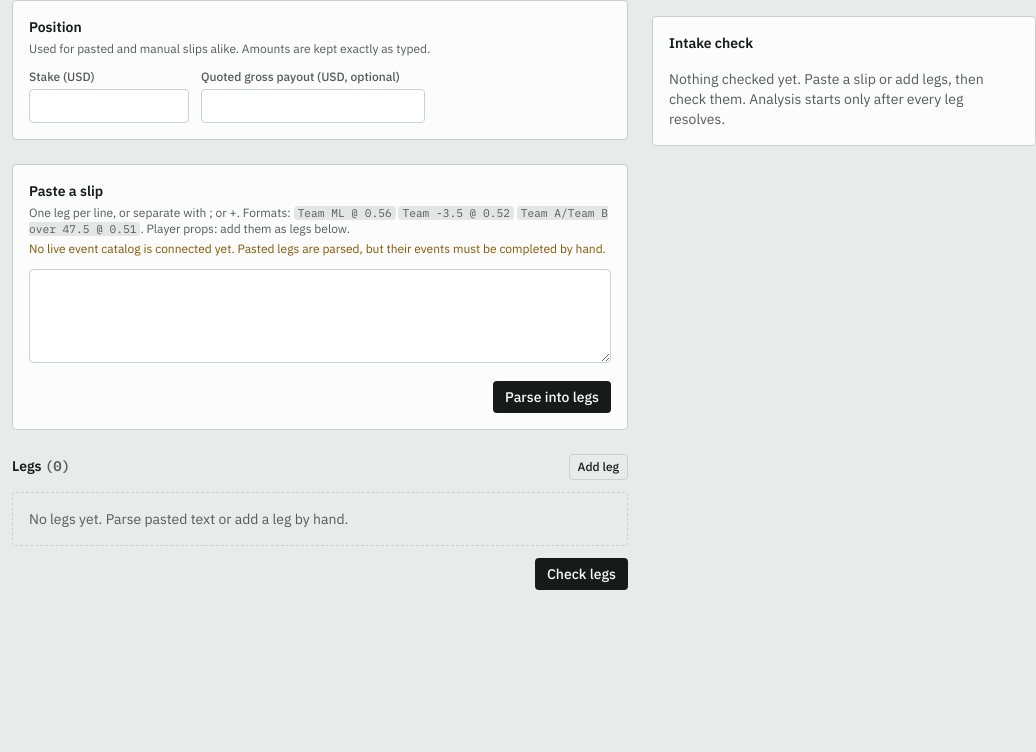
Test: live markets are rejected and labelled unsupported
Type "Chiefs ML @ 0.56" into the text box named "Slip text". click: (320, 316)
box: [29,269,611,363]
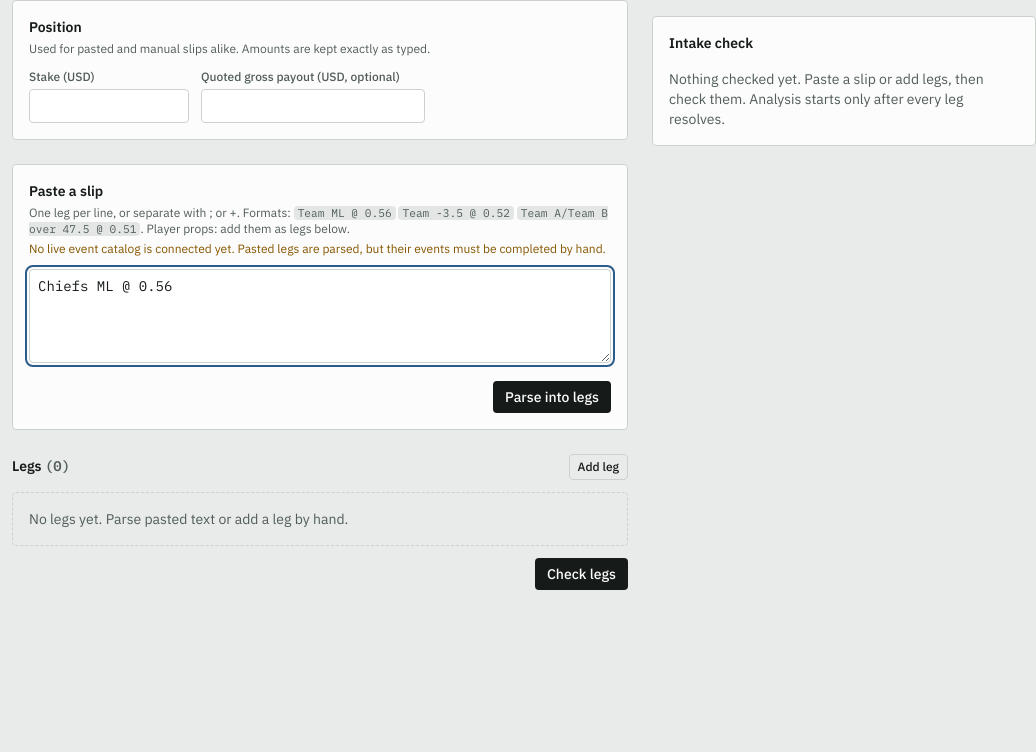
Type "25" into the field labelled "Stake (USD)". click: (109, 106)
box: [29,89,189,123]
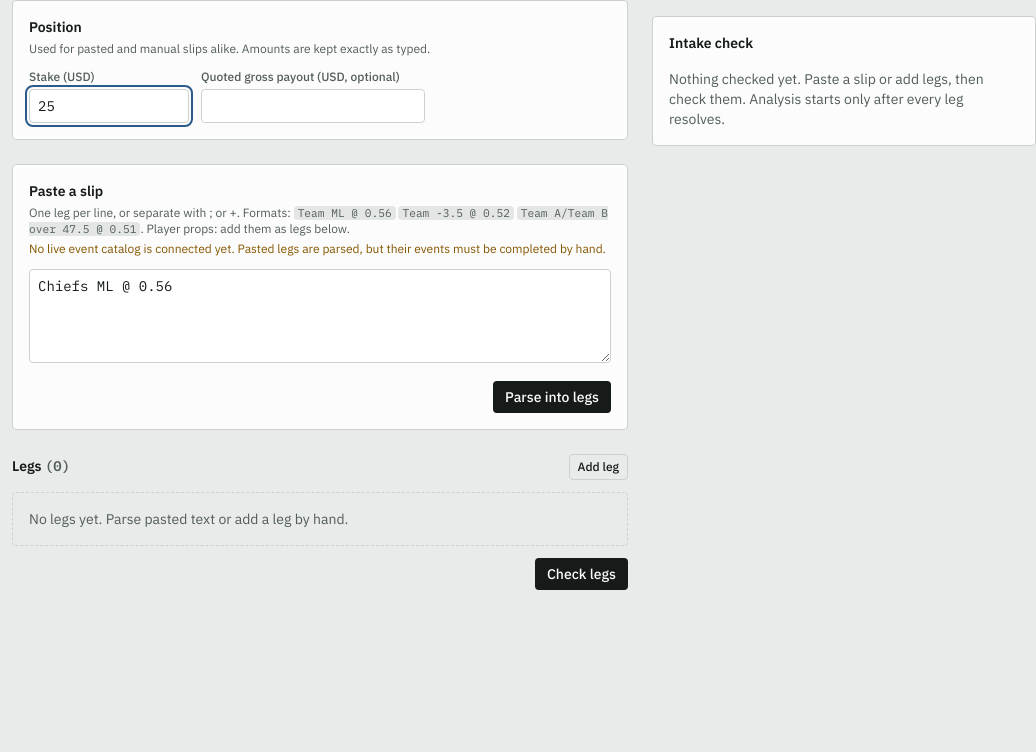
Click the button "Parse into legs". click: (552, 397)
box: [493,381,611,413]
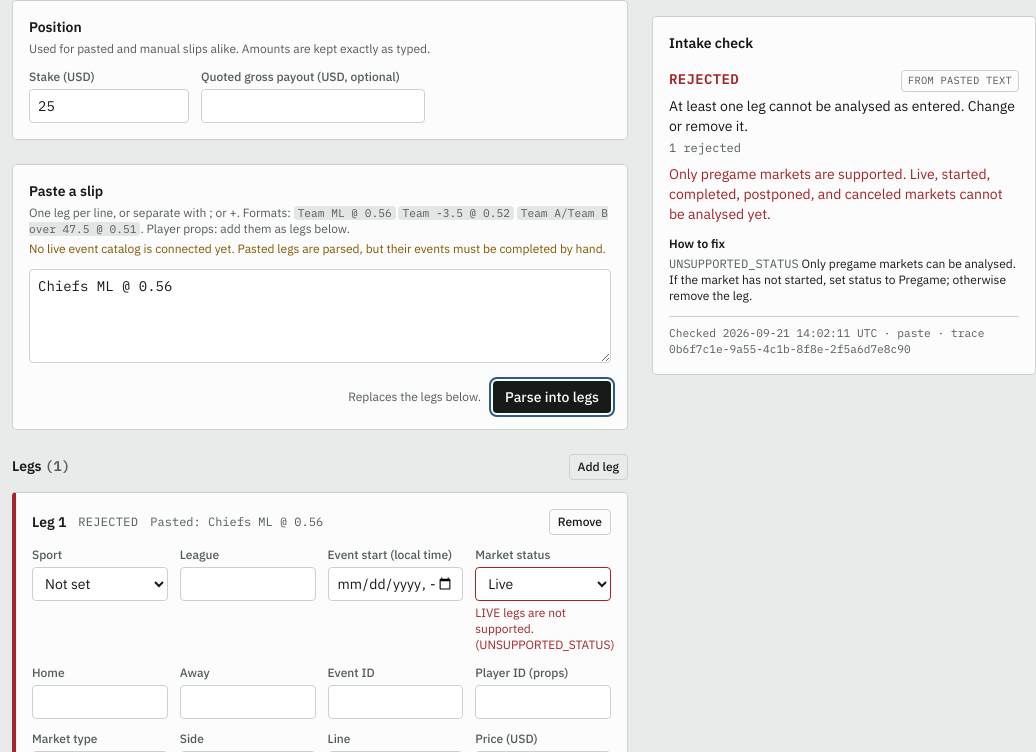
Expected: the text "Only pregame markets are supported" is shown, [669,165,1003,223]
Expected: the text "How to fix" is shown, [669,236,725,251]
Expected: the list item "set status to Pregame; otherwise remove the leg" is shown, [669,256,1016,303]
